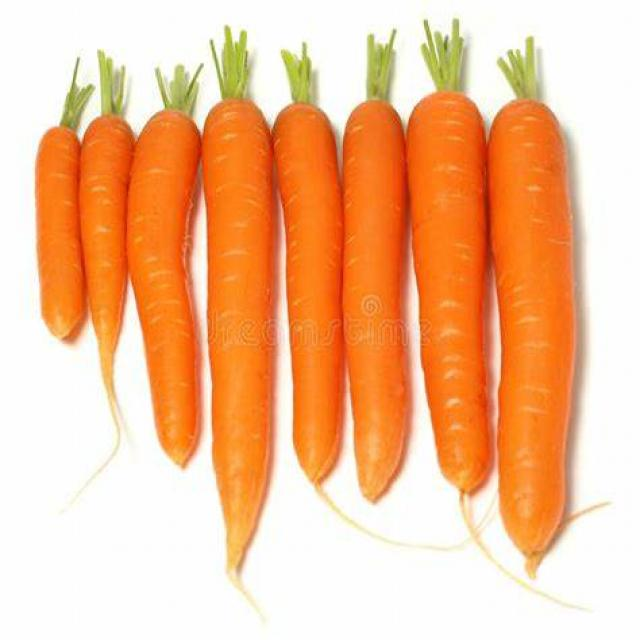Carrot: (486, 30, 580, 574), (410, 22, 493, 504), (204, 36, 275, 579), (339, 33, 415, 510), (265, 47, 344, 487), (132, 66, 206, 466), (79, 116, 128, 388), (25, 124, 84, 338)
